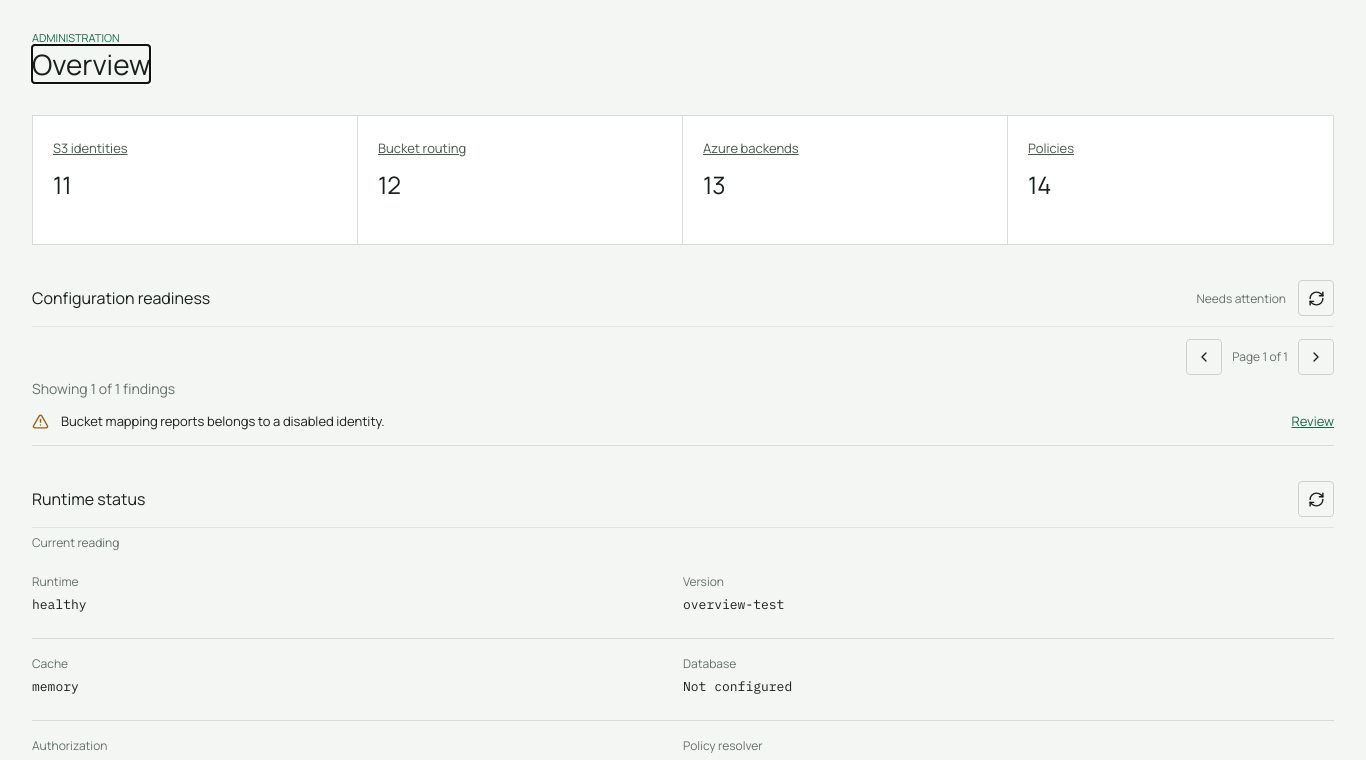
OverviewPage interactions › keeps the last diagnostics visible when refresh fails
expect the text "Bucket mapping reports belongs to a disabled identity." is shown: met, box [61,412,384,430]
Click the button named "Refresh configuration diagnostics": {"x": 1316, "y": 298} [1298,280,1334,316]
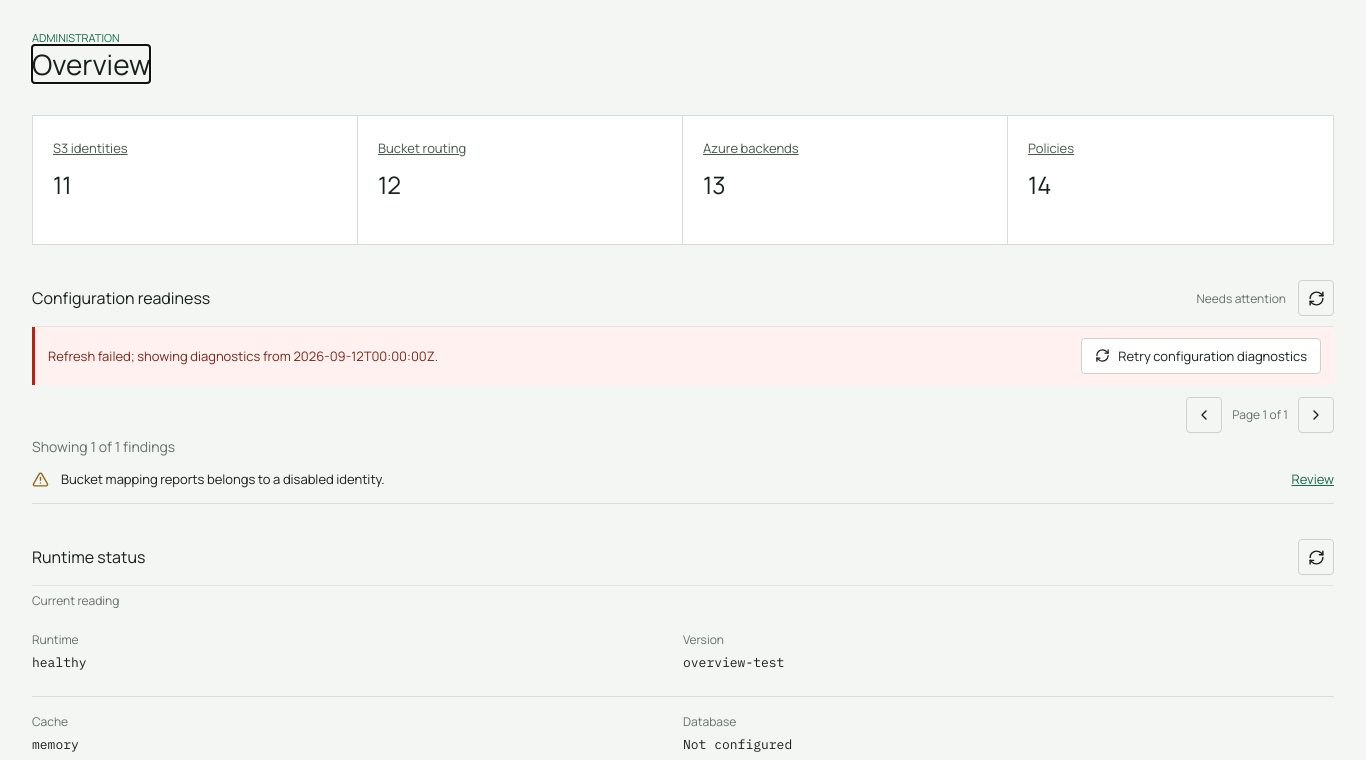
expect the text "Bucket mapping reports belongs to a disabled identity." is shown: met, box [61,470,384,488]
expect the text "Refresh failed; showing diagnostics from 2026-09-12T00:00:00Z." is shown: met, box [48,347,438,365]
